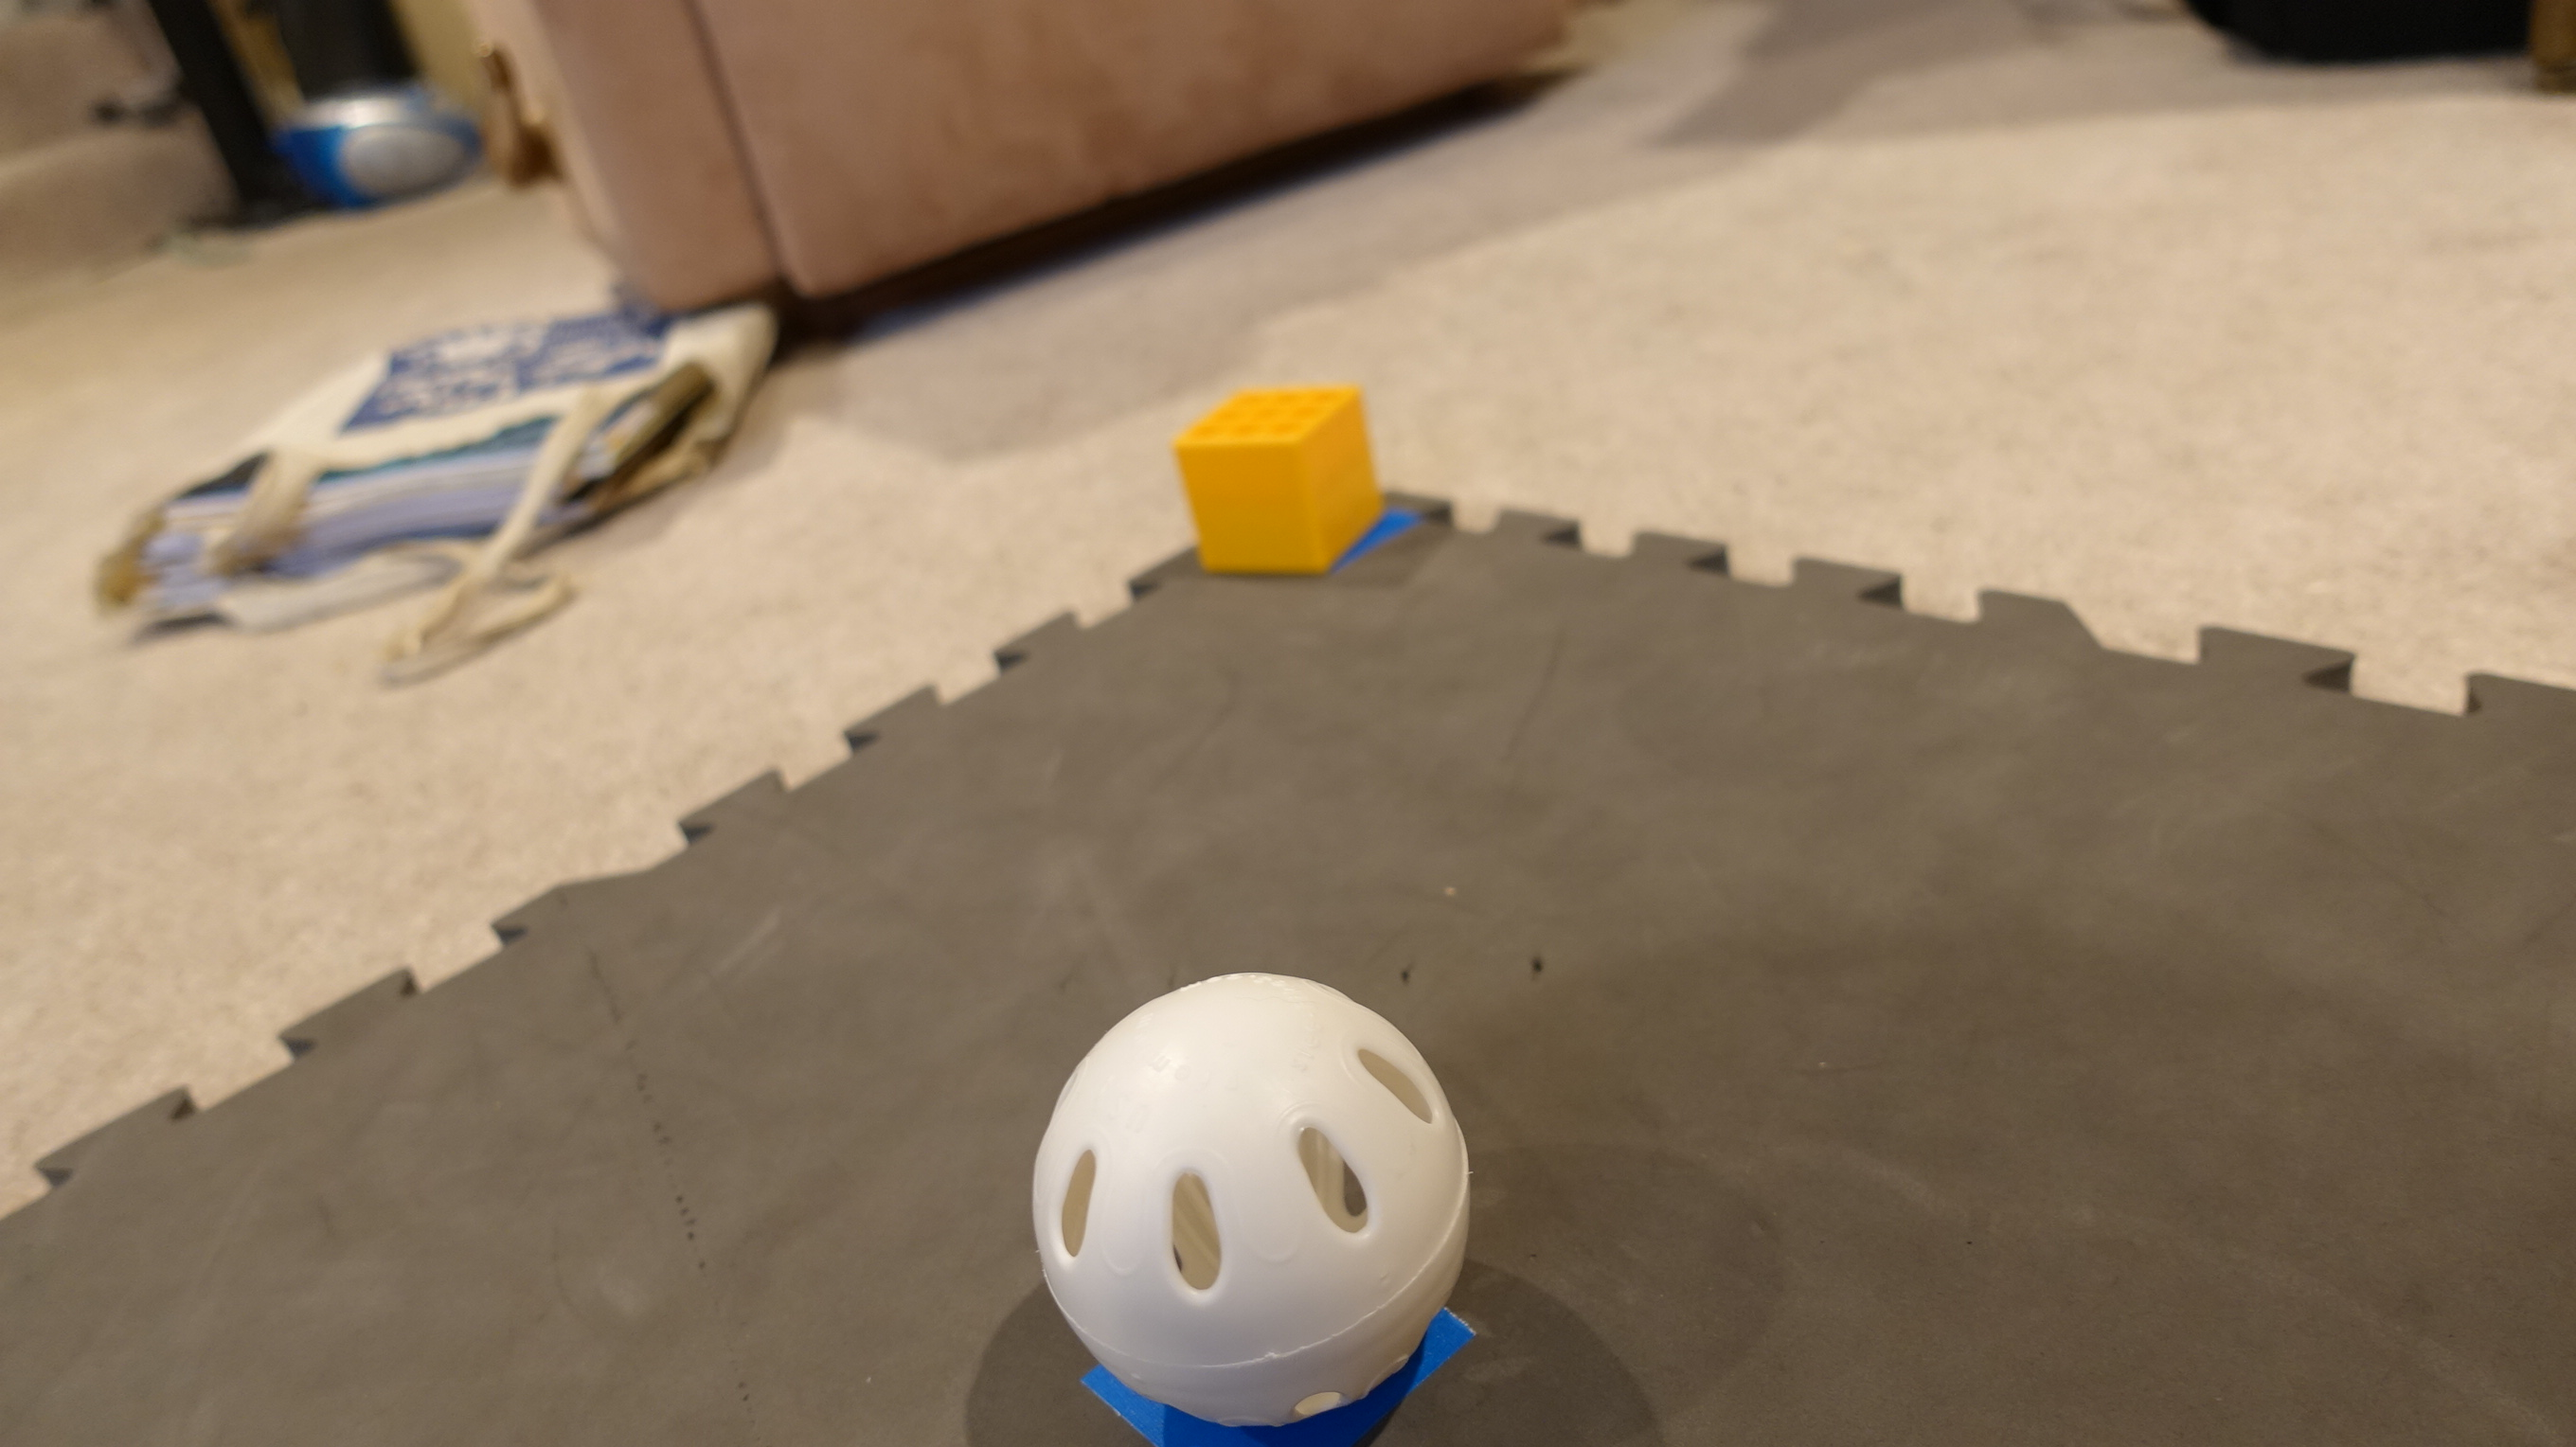gold: (1171, 384, 1387, 578)
silver: (1024, 969, 1477, 1435)
